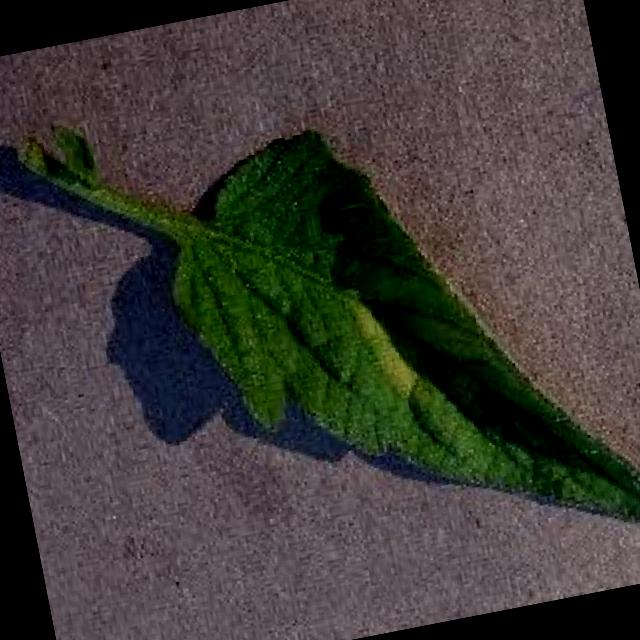leaf mold: (18, 131, 640, 519)
